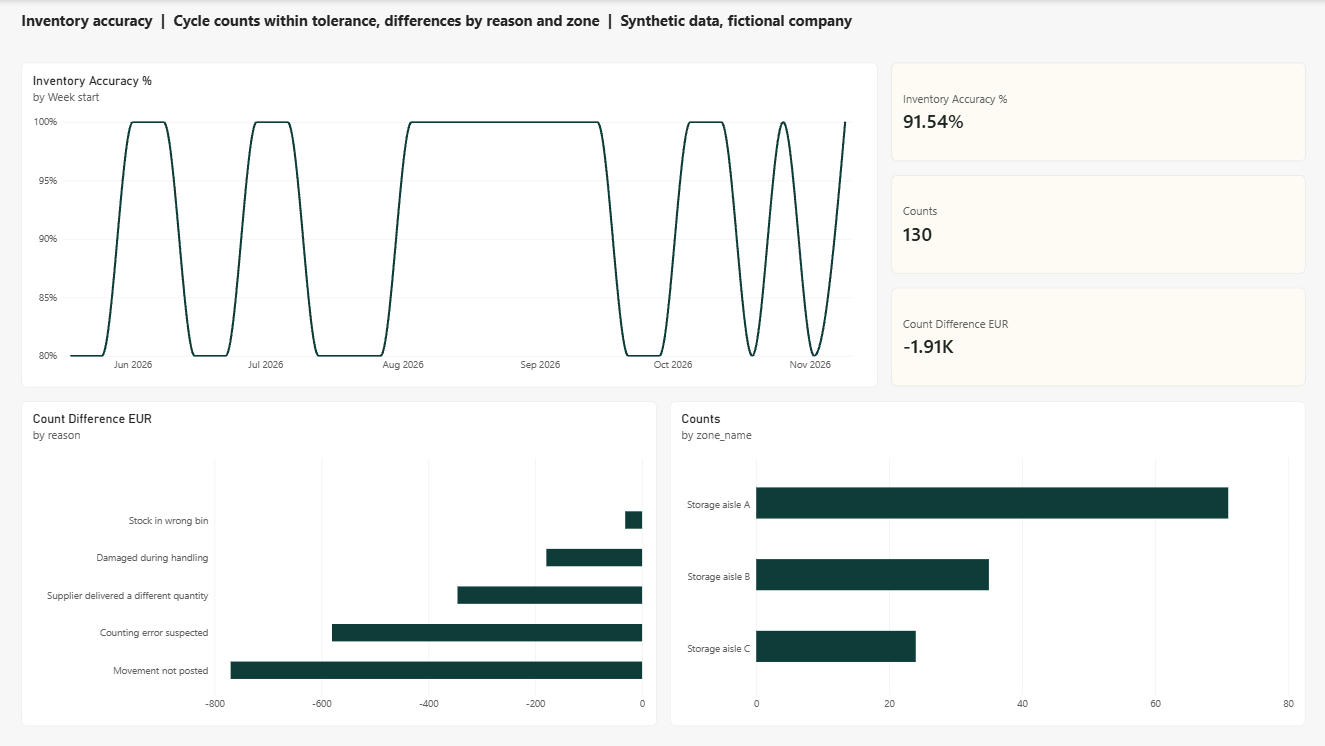

What the dashboard file says about the page in this screenshot:
{"tool":"powerbi","page":{"name":"Inventory accuracy","canvas":[1920,1080],"ordinal":2},"visuals":[{"type":"lineChart","fields":{"Category":["Date.Week start"],"Y":["Measures (2).Inventory Accuracy %"]},"box":[30,90,1240,470],"z":0},{"type":"cardVisual","fields":{"Data":["Measures (2).Inventory Accuracy %"]},"box":[1290,90,600,143],"z":1},{"type":"cardVisual","fields":{"Data":["Measures (2).Counts"]},"box":[1290,253,600,143],"z":2},{"type":"cardVisual","fields":{"Data":["Measures (2).Count Difference EUR"]},"box":[1290,417,600,143],"z":3},{"type":"clusteredBarChart","fields":{"Category":["fact_counts.reason"],"Y":["Measures (2).Count Difference EUR"]},"box":[30,580,920,470],"z":4},{"type":"clusteredBarChart","fields":{"Category":["dim_bin.zone_name"],"Y":["Measures (2).Counts"]},"box":[970,580,920,470],"z":5},{"type":"textbox","box":[30,15,1820,60],"z":6}]}

Visuals, with their boxes in screenshot pixels (x1, y1, x2, y2), scaled from the page's 1920x1080 canvas onto the 1325x746 screenshot:
lineChart - Date.Week start x Measures (2).Inventory Accuracy %: locate(21, 62, 876, 387)
cardVisual - Measures (2).Inventory Accuracy %: locate(890, 62, 1304, 161)
cardVisual - Measures (2).Counts: locate(890, 175, 1304, 274)
cardVisual - Measures (2).Count Difference EUR: locate(890, 288, 1304, 387)
clusteredBarChart - fact_counts.reason x Measures (2).Count Difference EUR: locate(21, 401, 656, 725)
clusteredBarChart - dim_bin.zone_name x Measures (2).Counts: locate(669, 401, 1304, 725)
textbox: locate(21, 10, 1277, 52)
